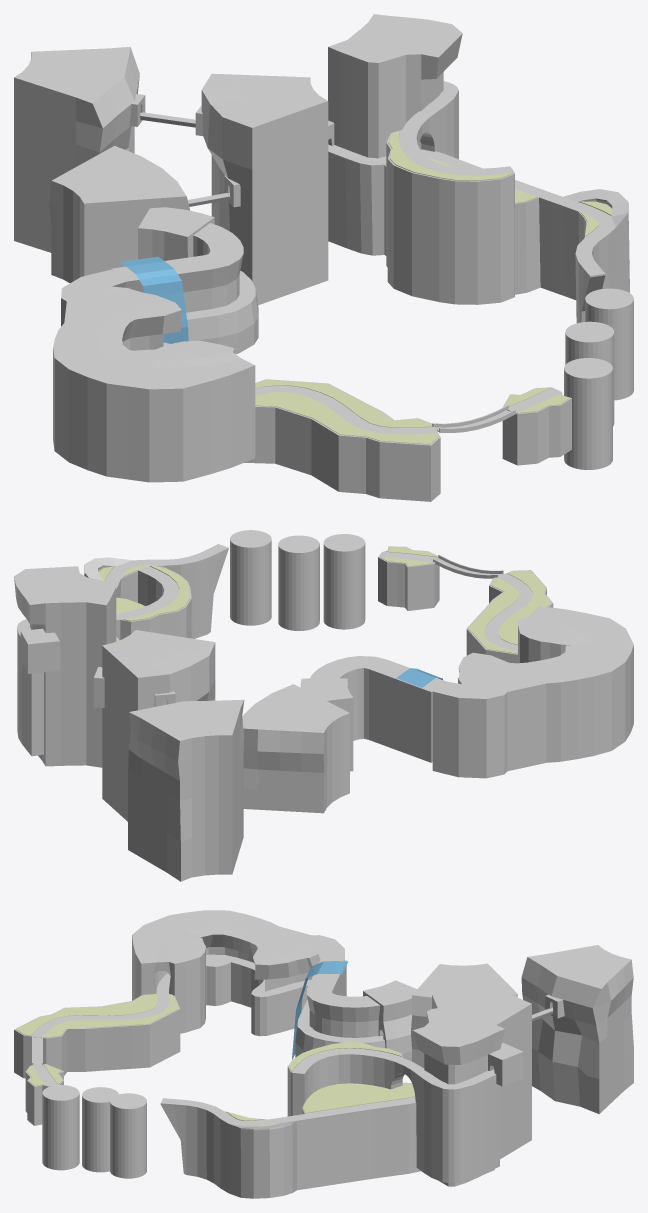
Rendered from LD 2 - Canyon track.fbx.
3 renders of one model, top to bottom at view 1: azimuth 30°, elevation 25°; view 2: azimuth 150°, elevation 25°; view 3: azimuth 270°, elevation 25°, orthographic. The views are drawn at different scales.
Parts seen in each view (by area): view 1: Cube.010, Cube, Cube.017, Cube.019, Cube.004, Cube.021, Cube.007, Cube.003, Cube.006, Cylinder, Cube.013, Cube.008 (+7 smaller); view 2: Cube.010, Cube.004, Cube.021, Cube.003, Cube, Cube.006, Cube.017, Cube.019, Cylinder, Cylinder.001, Cylinder.002, Cube.008 (+6 smaller); view 3: Cube.019, Cube.010, Cube.004, Cube.017, Cube.007, Cube.006, Cube, Cube.021, Cylinder, Cube.003, Cylinder.002, Cube.013 (+7 smaller).
Boxes of the visible parts, x1,y1,x2,y2 form: Cube.010: [53, 269, 255, 482]; Cube: [201, 73, 328, 305]; Cube.017: [386, 81, 514, 304]; Cube.019: [328, 144, 629, 323]; Cube.004: [14, 46, 139, 252]; Cube.021: [328, 14, 462, 158]; Cube.007: [244, 379, 440, 501]; Cube.003: [49, 146, 190, 282]; Cube.006: [111, 207, 258, 354]; Cylinder: [564, 358, 612, 469]; Cube.013: [255, 379, 437, 444]; Cube.008: [502, 387, 571, 465]; Cube.010: [432, 606, 633, 778]; Cube.004: [128, 699, 244, 881]; Cube.021: [14, 566, 116, 767]; Cube.003: [242, 684, 349, 813]; Cube: [102, 630, 215, 821]; Cube.006: [300, 656, 446, 771]; Cube.017: [17, 566, 191, 756]; Cube.019: [84, 544, 228, 638]; Cylinder: [323, 534, 365, 629]; Cylinder.001: [278, 535, 319, 630]; Cylinder.002: [230, 530, 271, 625]; Cube.008: [378, 546, 439, 610]; Cube.019: [160, 1098, 420, 1198]; Cube.010: [132, 910, 344, 1036]; Cube.004: [521, 945, 633, 1114]; Cube.017: [287, 1042, 499, 1183]; Cube.007: [14, 994, 180, 1078]; Cube.006: [295, 960, 416, 1061]; Cube: [432, 990, 531, 1159]; Cube.021: [412, 1003, 504, 1186]; Cylinder: [42, 1085, 79, 1170]; Cube.003: [411, 963, 518, 1068]; Cylinder.002: [110, 1093, 146, 1178]; Cube.013: [16, 991, 178, 1037].
Size of the model in its own units: 9331 by 3258 by 11096.
